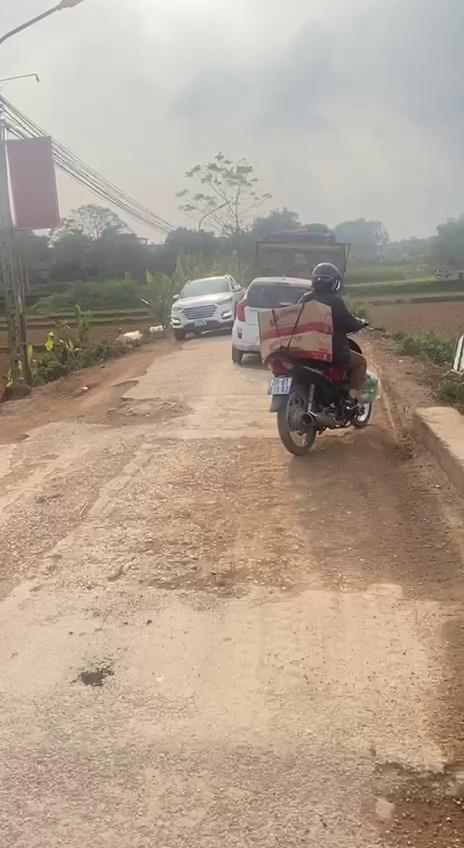pothole: (361, 752, 464, 848), (63, 377, 198, 431)
